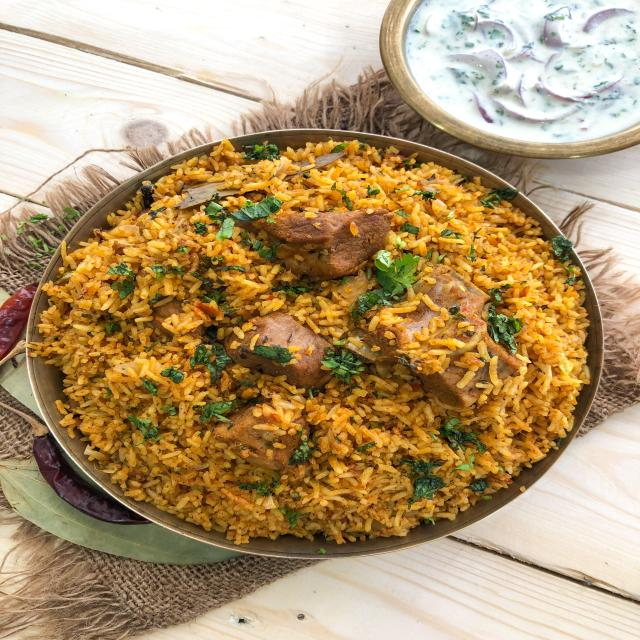chicken biryani: (108, 199, 526, 532)
